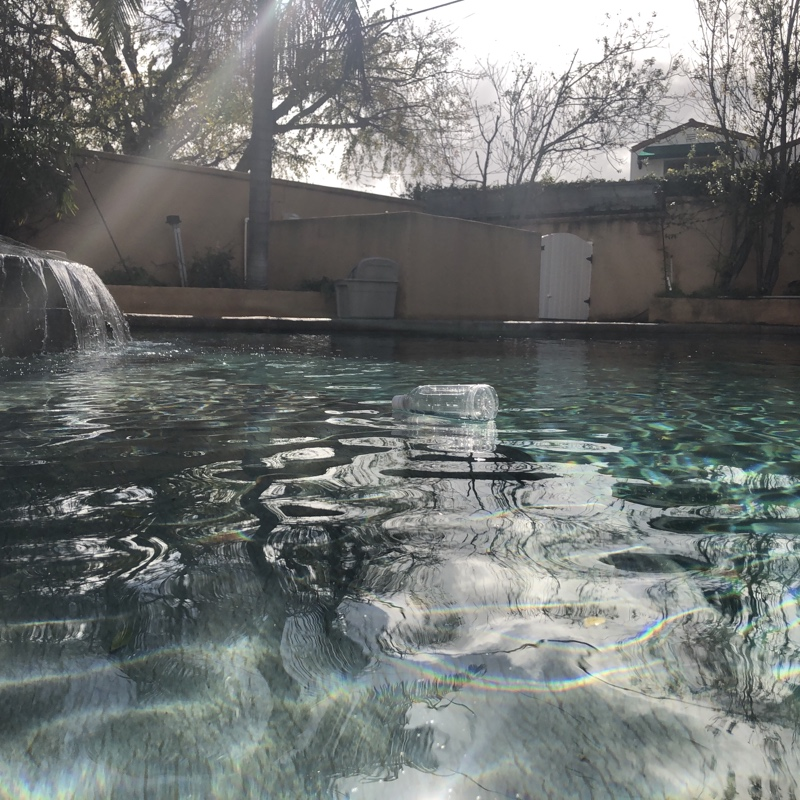Plastic Bottle: (384, 378, 502, 426)
